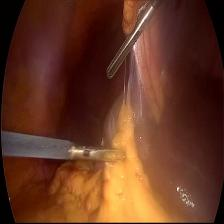Grasper: (64, 128, 130, 184), (102, 13, 156, 80)
